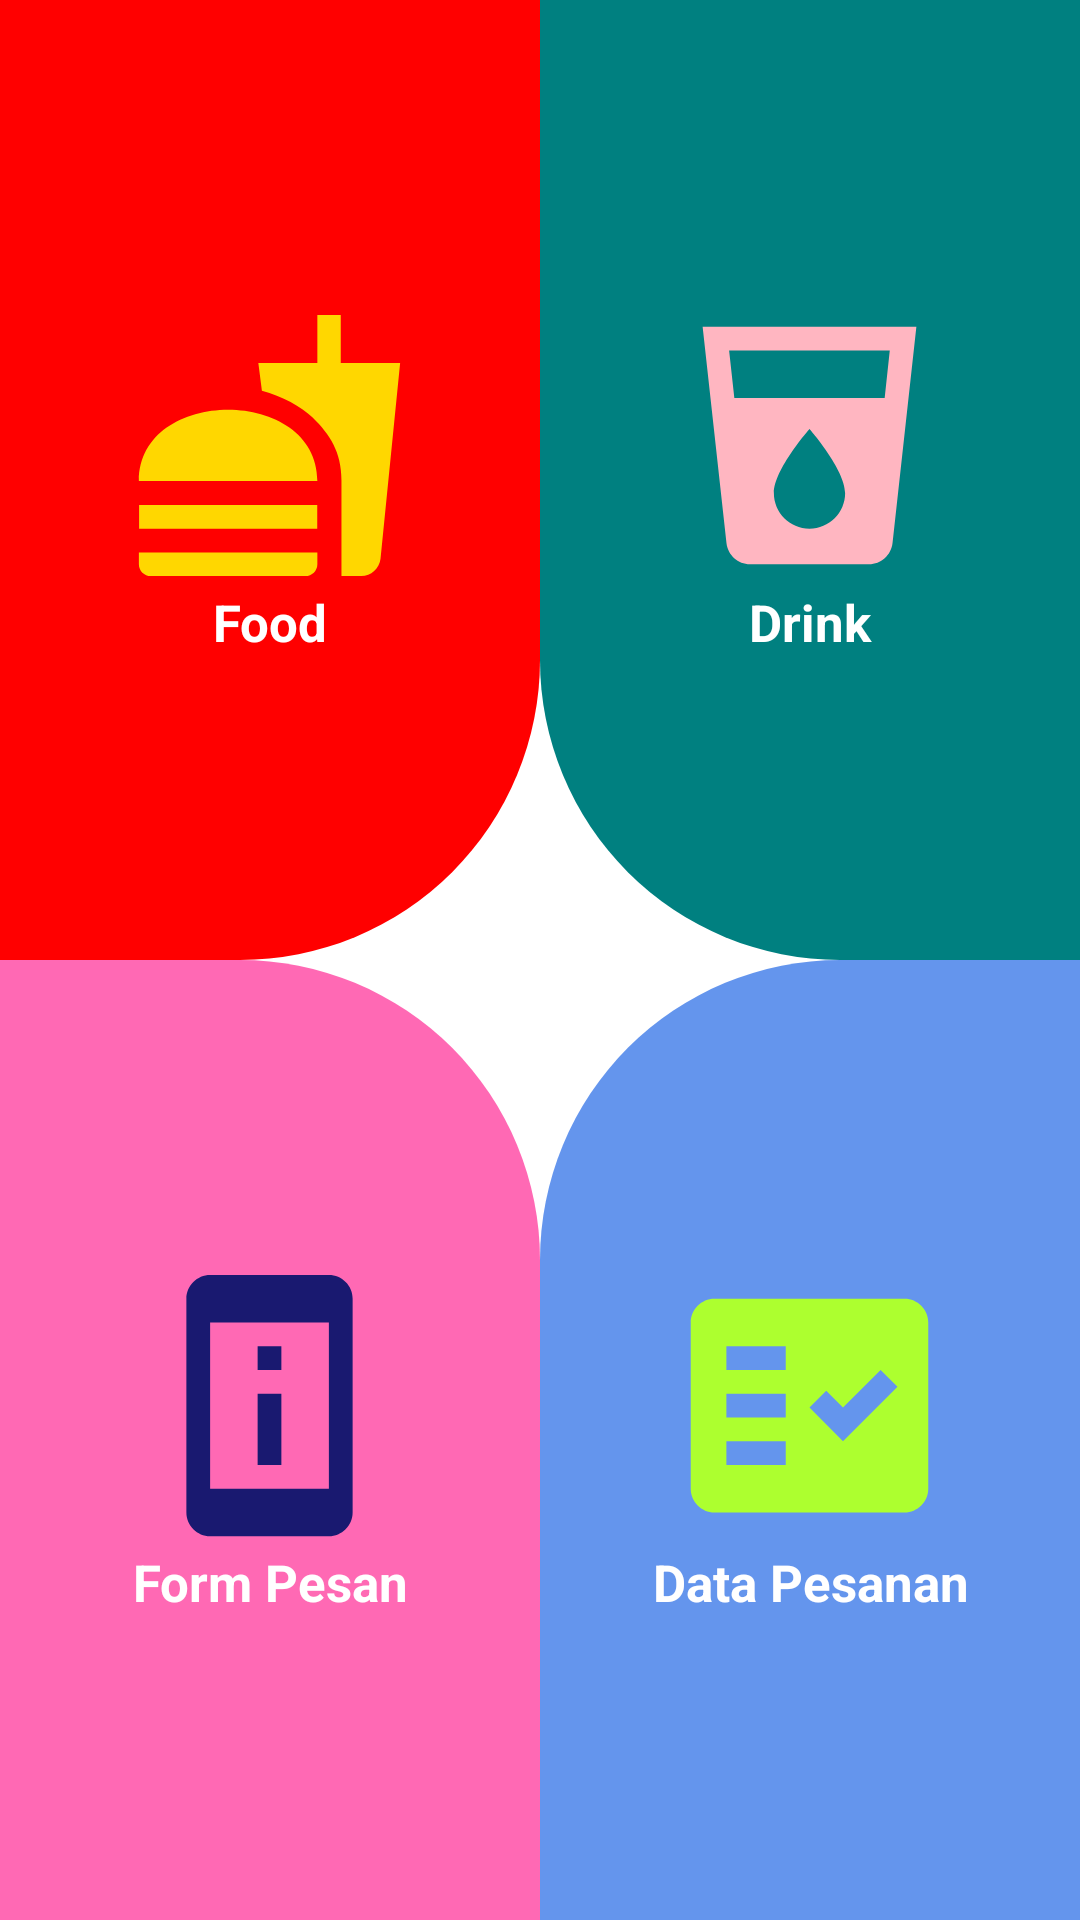

Named icons in this screenshot (1080×1920) and their bounding boxes, (x1, y1, x2, y2):
fact check: (690, 1298, 929, 1513)
perm device information: (186, 1275, 353, 1537)
